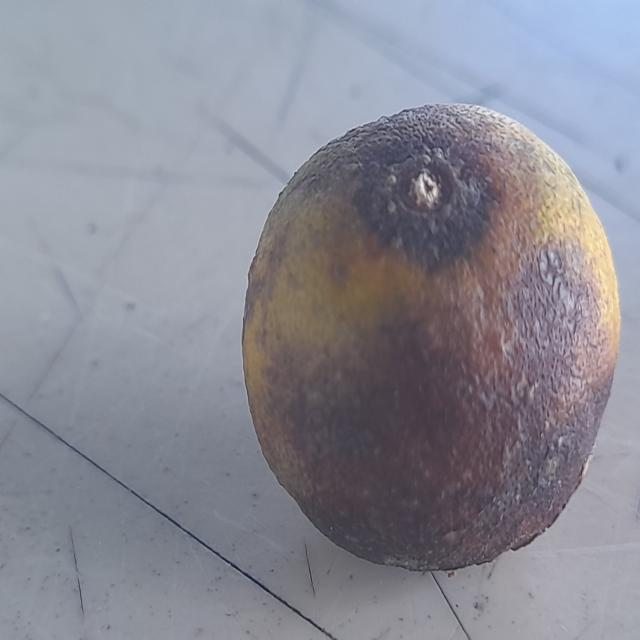black spot: (231, 110, 617, 569)
